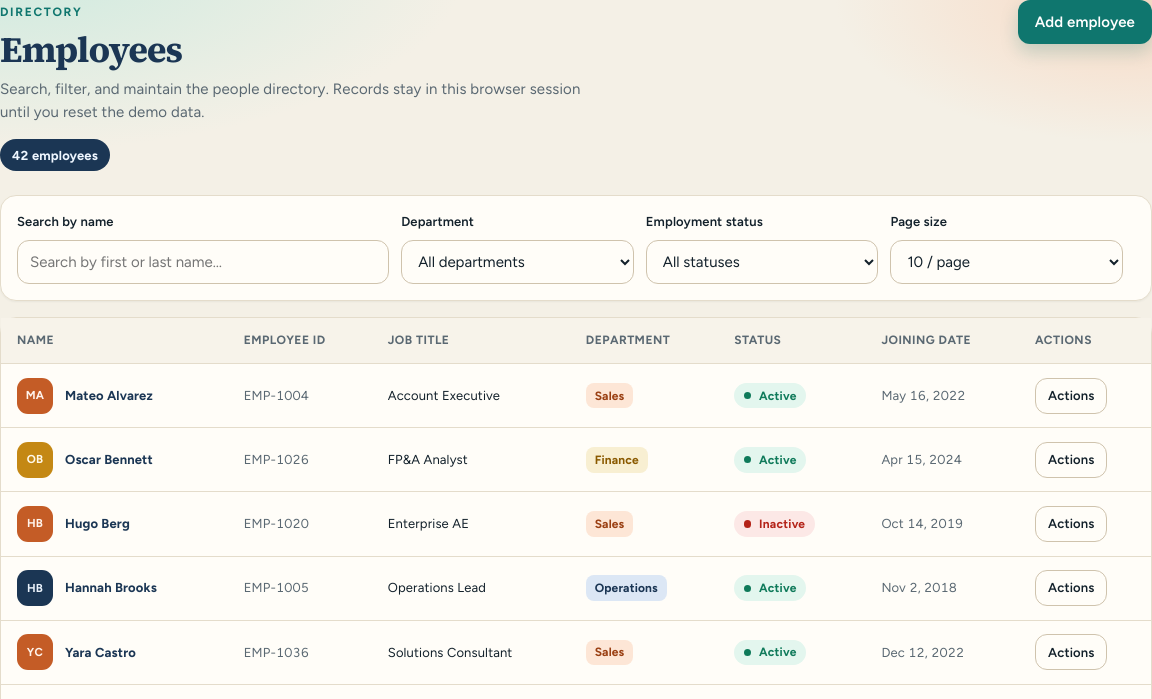
Test: Employee list › filters by employment status
Select "On leave" in the dropdown labelled "Employment status" at x=762, y=262, box [646,240,878,284]
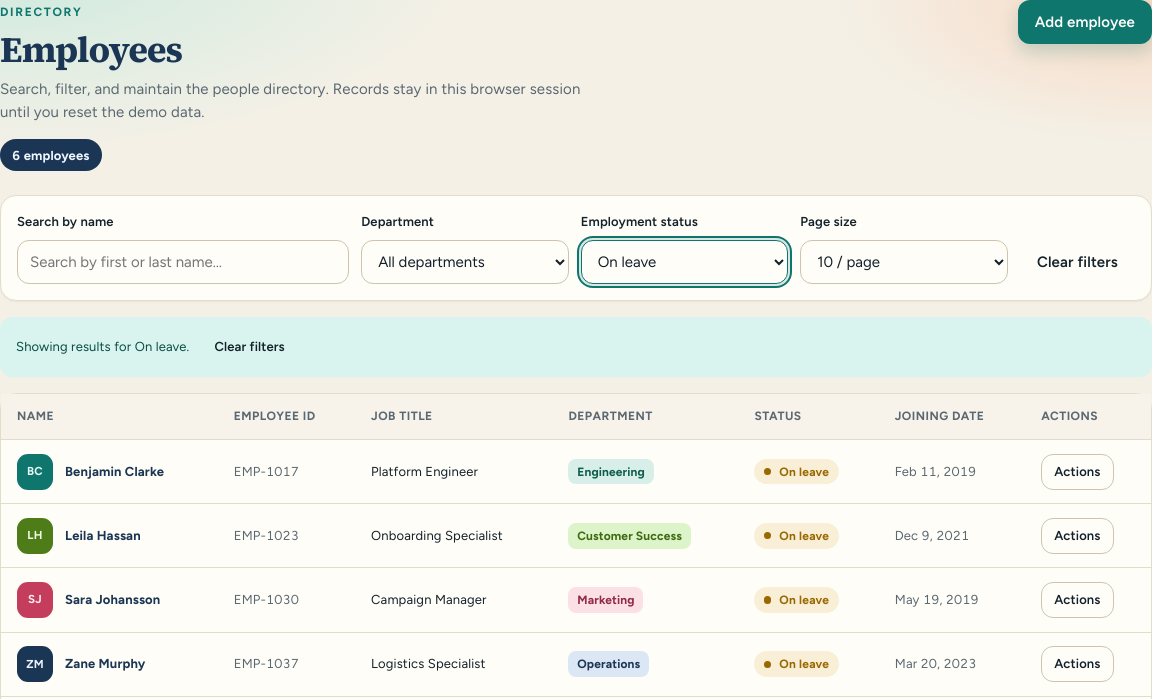
expect the text "James Chen" is not shown: met
